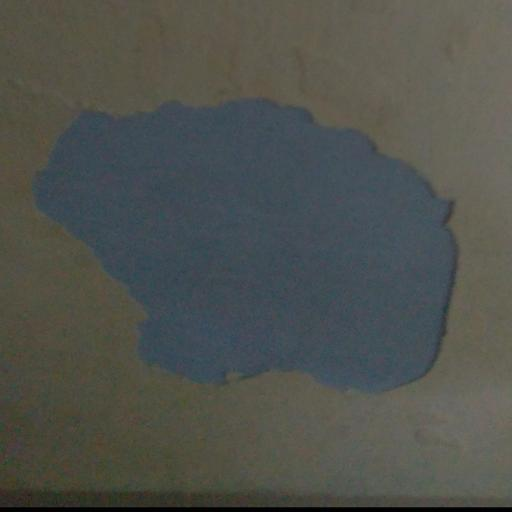peeling: (11, 76, 466, 412)
